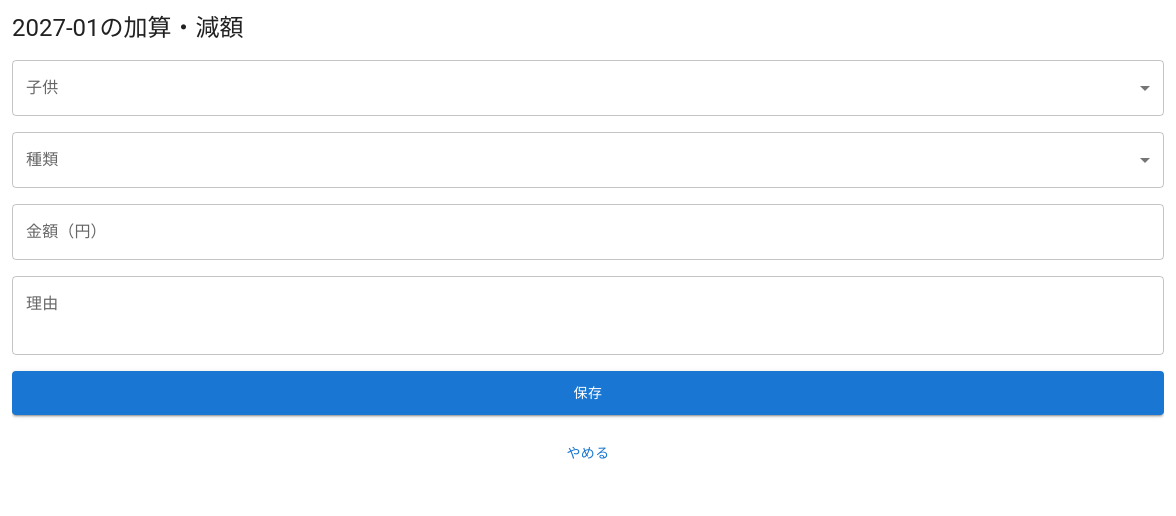
Test case: 調整の入力と不明な結果 › 確定を検出したら変更を止める
Select "太郎" in the dropdown labelled "子供": (588, 88) [12,60,1164,116]
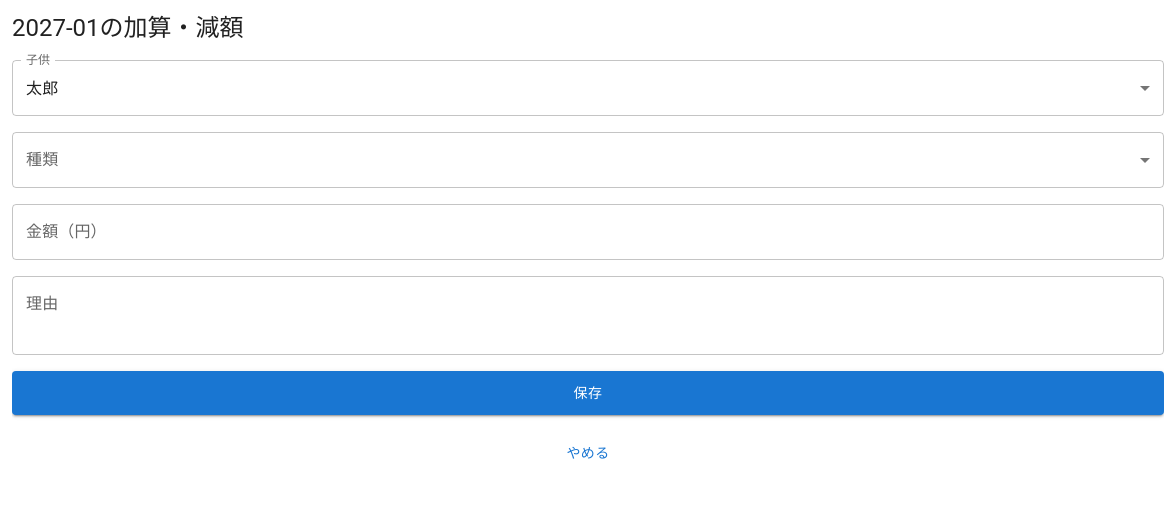
Select "減額" in the dropdown labelled "種類": (588, 160) [12,132,1164,188]
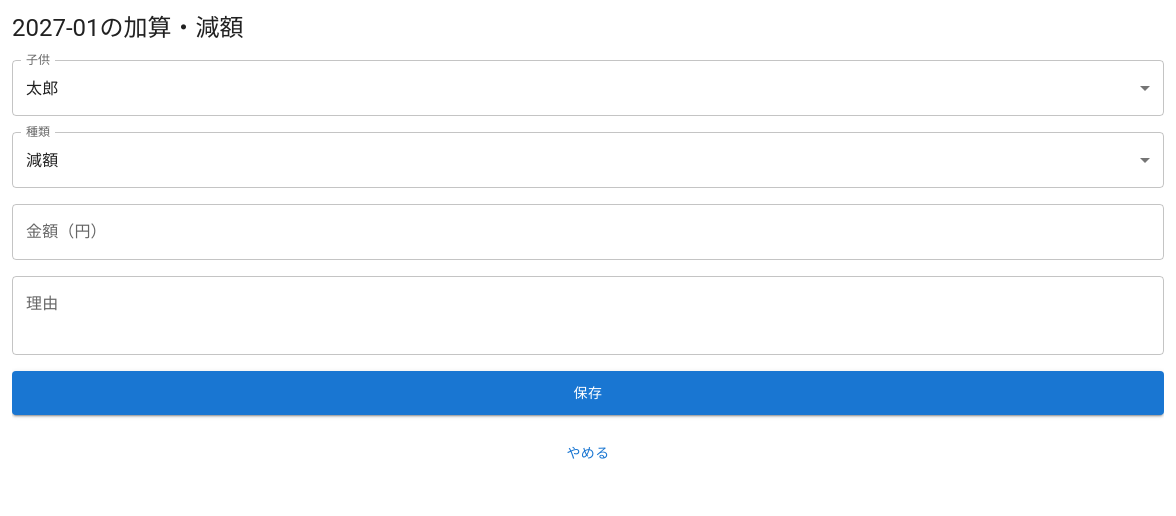
In the field labelled "金額（円）": (588, 232) [12,204,1164,260], type "200"
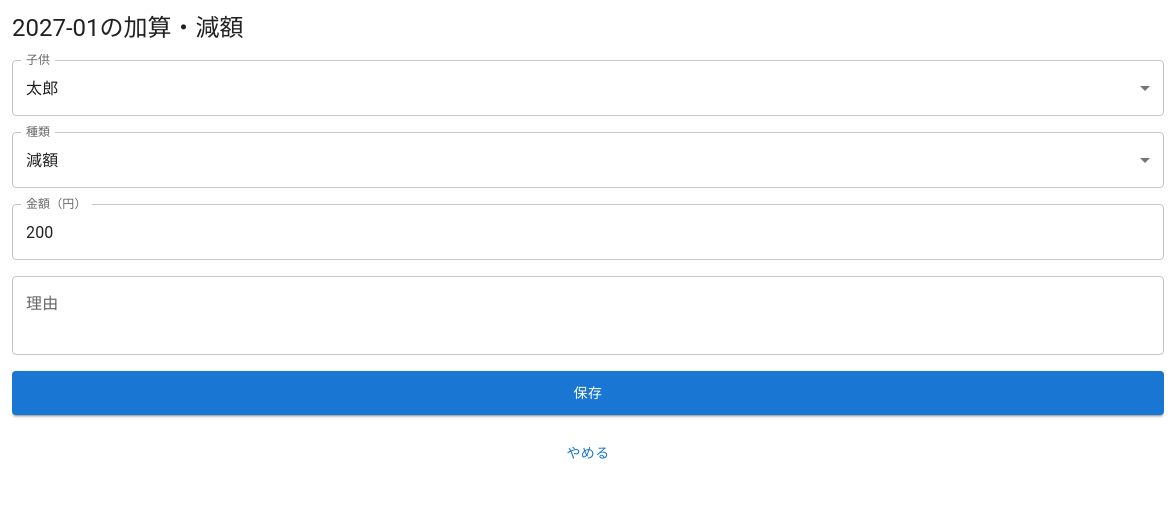
In the text box labelled "理由": (588, 316) [26,292,1150,338], type "追加の理由"
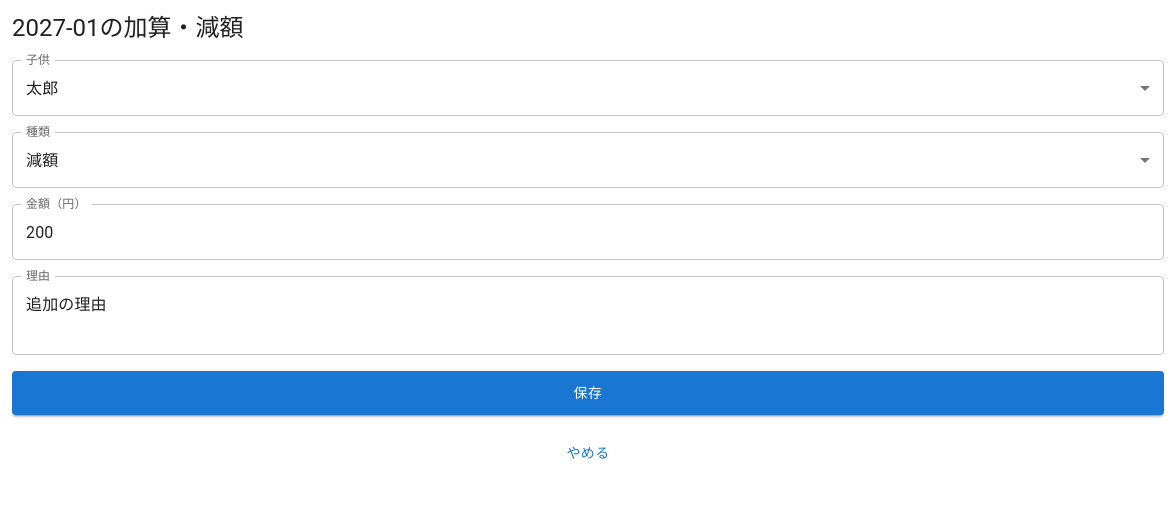
Click the button with test id "adjustment-save": (588, 393) [12,371,1164,415]
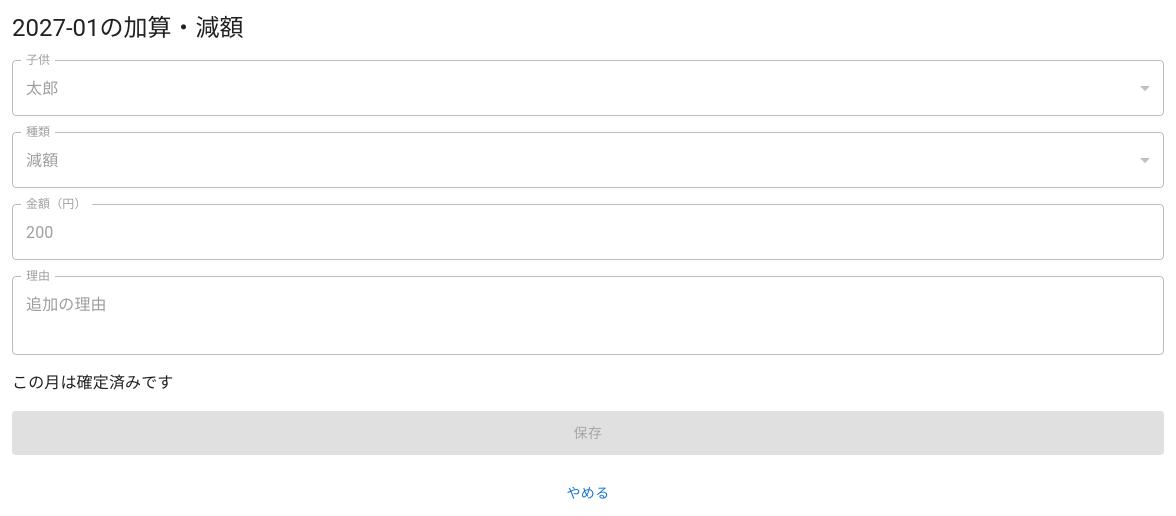
Expected: the message "この月は確定済みです" is shown, [12,373,174,392]
Expected: the button with test id "adjustment-save" is disabled, [12,411,1164,455]
